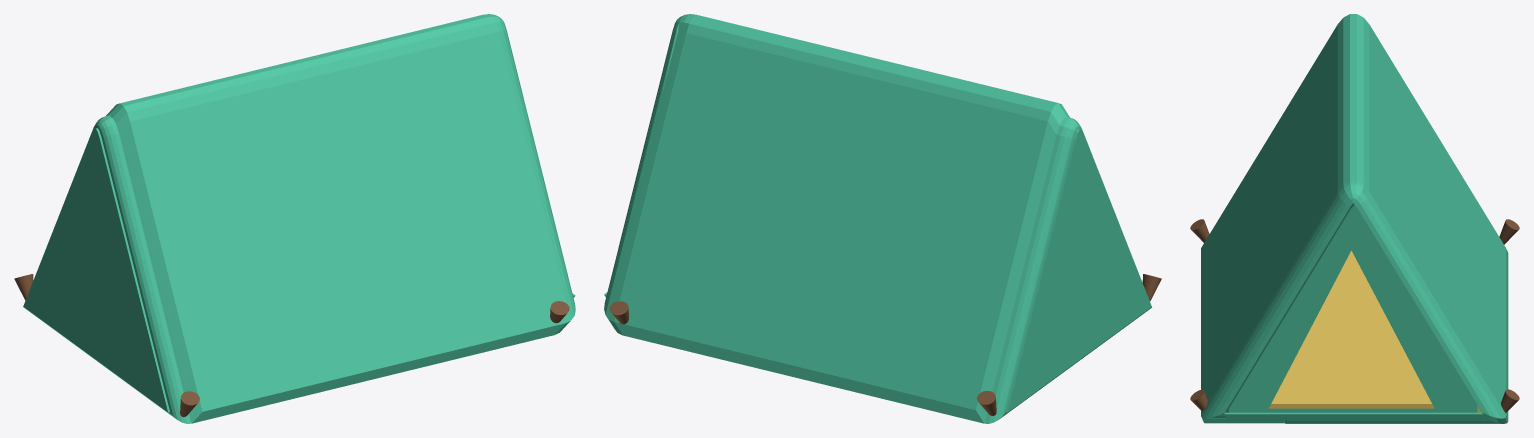
The model's file is Tenda 3.fbx.
3 renders of one model, left to right at view 1: azimuth 30°, elevation 25°; view 2: azimuth 150°, elevation 25°; view 3: azimuth 270°, elevation 25°, orthographic. The views are drawn at different scales.
Visible parts, largest first — view 1: Tenda, Pintu Belakang, Cube; view 2: Tenda, Pintu Belakang, Cube; view 3: Tenda, Cube.001, Alas.
Part boxes in pixels (box(x1,y1,x2,y2)): Tenda: box(106, 14, 575, 423); Pintu Belakang: box(23, 128, 169, 412); Cube: box(23, 115, 191, 423); Tenda: box(604, 14, 1069, 423); Pintu Belakang: box(1006, 129, 1151, 412); Cube: box(984, 116, 1151, 423); Tenda: box(1201, 14, 1508, 423); Cube.001: box(1229, 205, 1477, 412); Alas: box(1269, 251, 1481, 412).
Bounding box in the file's own units: 520 × 313 × 382.
